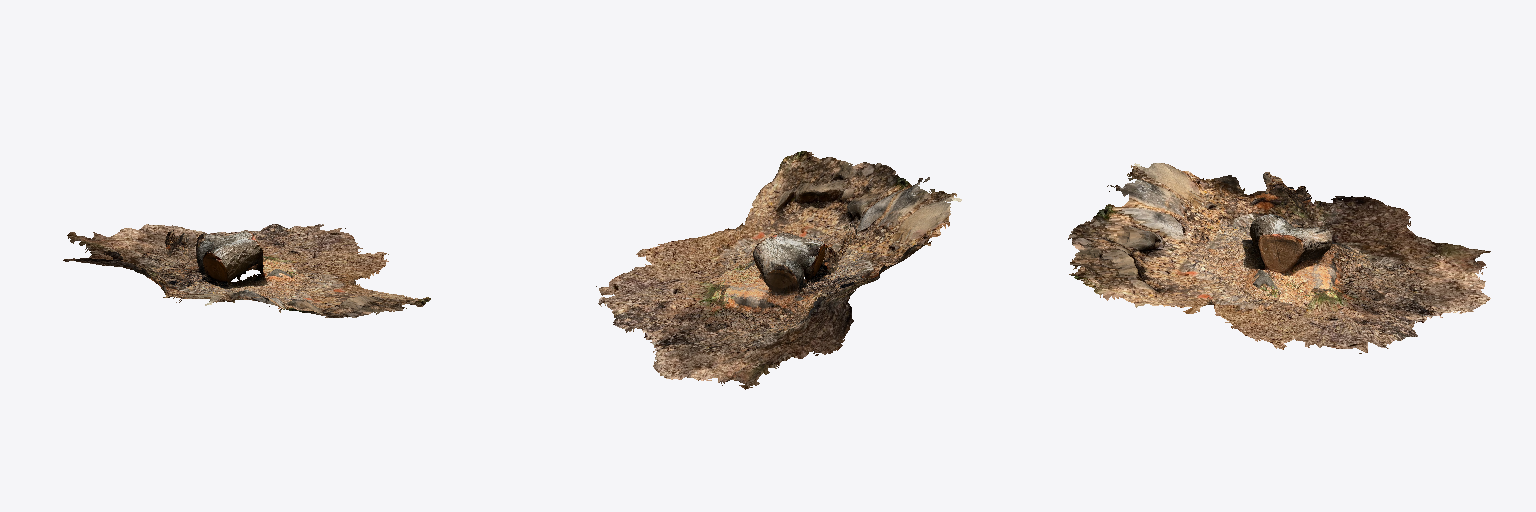
3 renders of one model, left to right at view 1: azimuth 30°, elevation 25°; view 2: azimuth 150°, elevation 25°; view 3: azimuth 270°, elevation 25°, orthographic.
Parts seen in each view (by area): view 1: mesh_0; view 2: mesh_0; view 3: mesh_0.
Part boxes in pixels (left/top/right/bottom): mesh_0: left=63, top=224, right=430, bottom=317; mesh_0: left=596, top=151, right=961, bottom=389; mesh_0: left=1068, top=163, right=1490, bottom=353.
Size of the model in its own units: 3.41 by 1.14 by 4.72.
Materials: 1 (1 with a texture image).